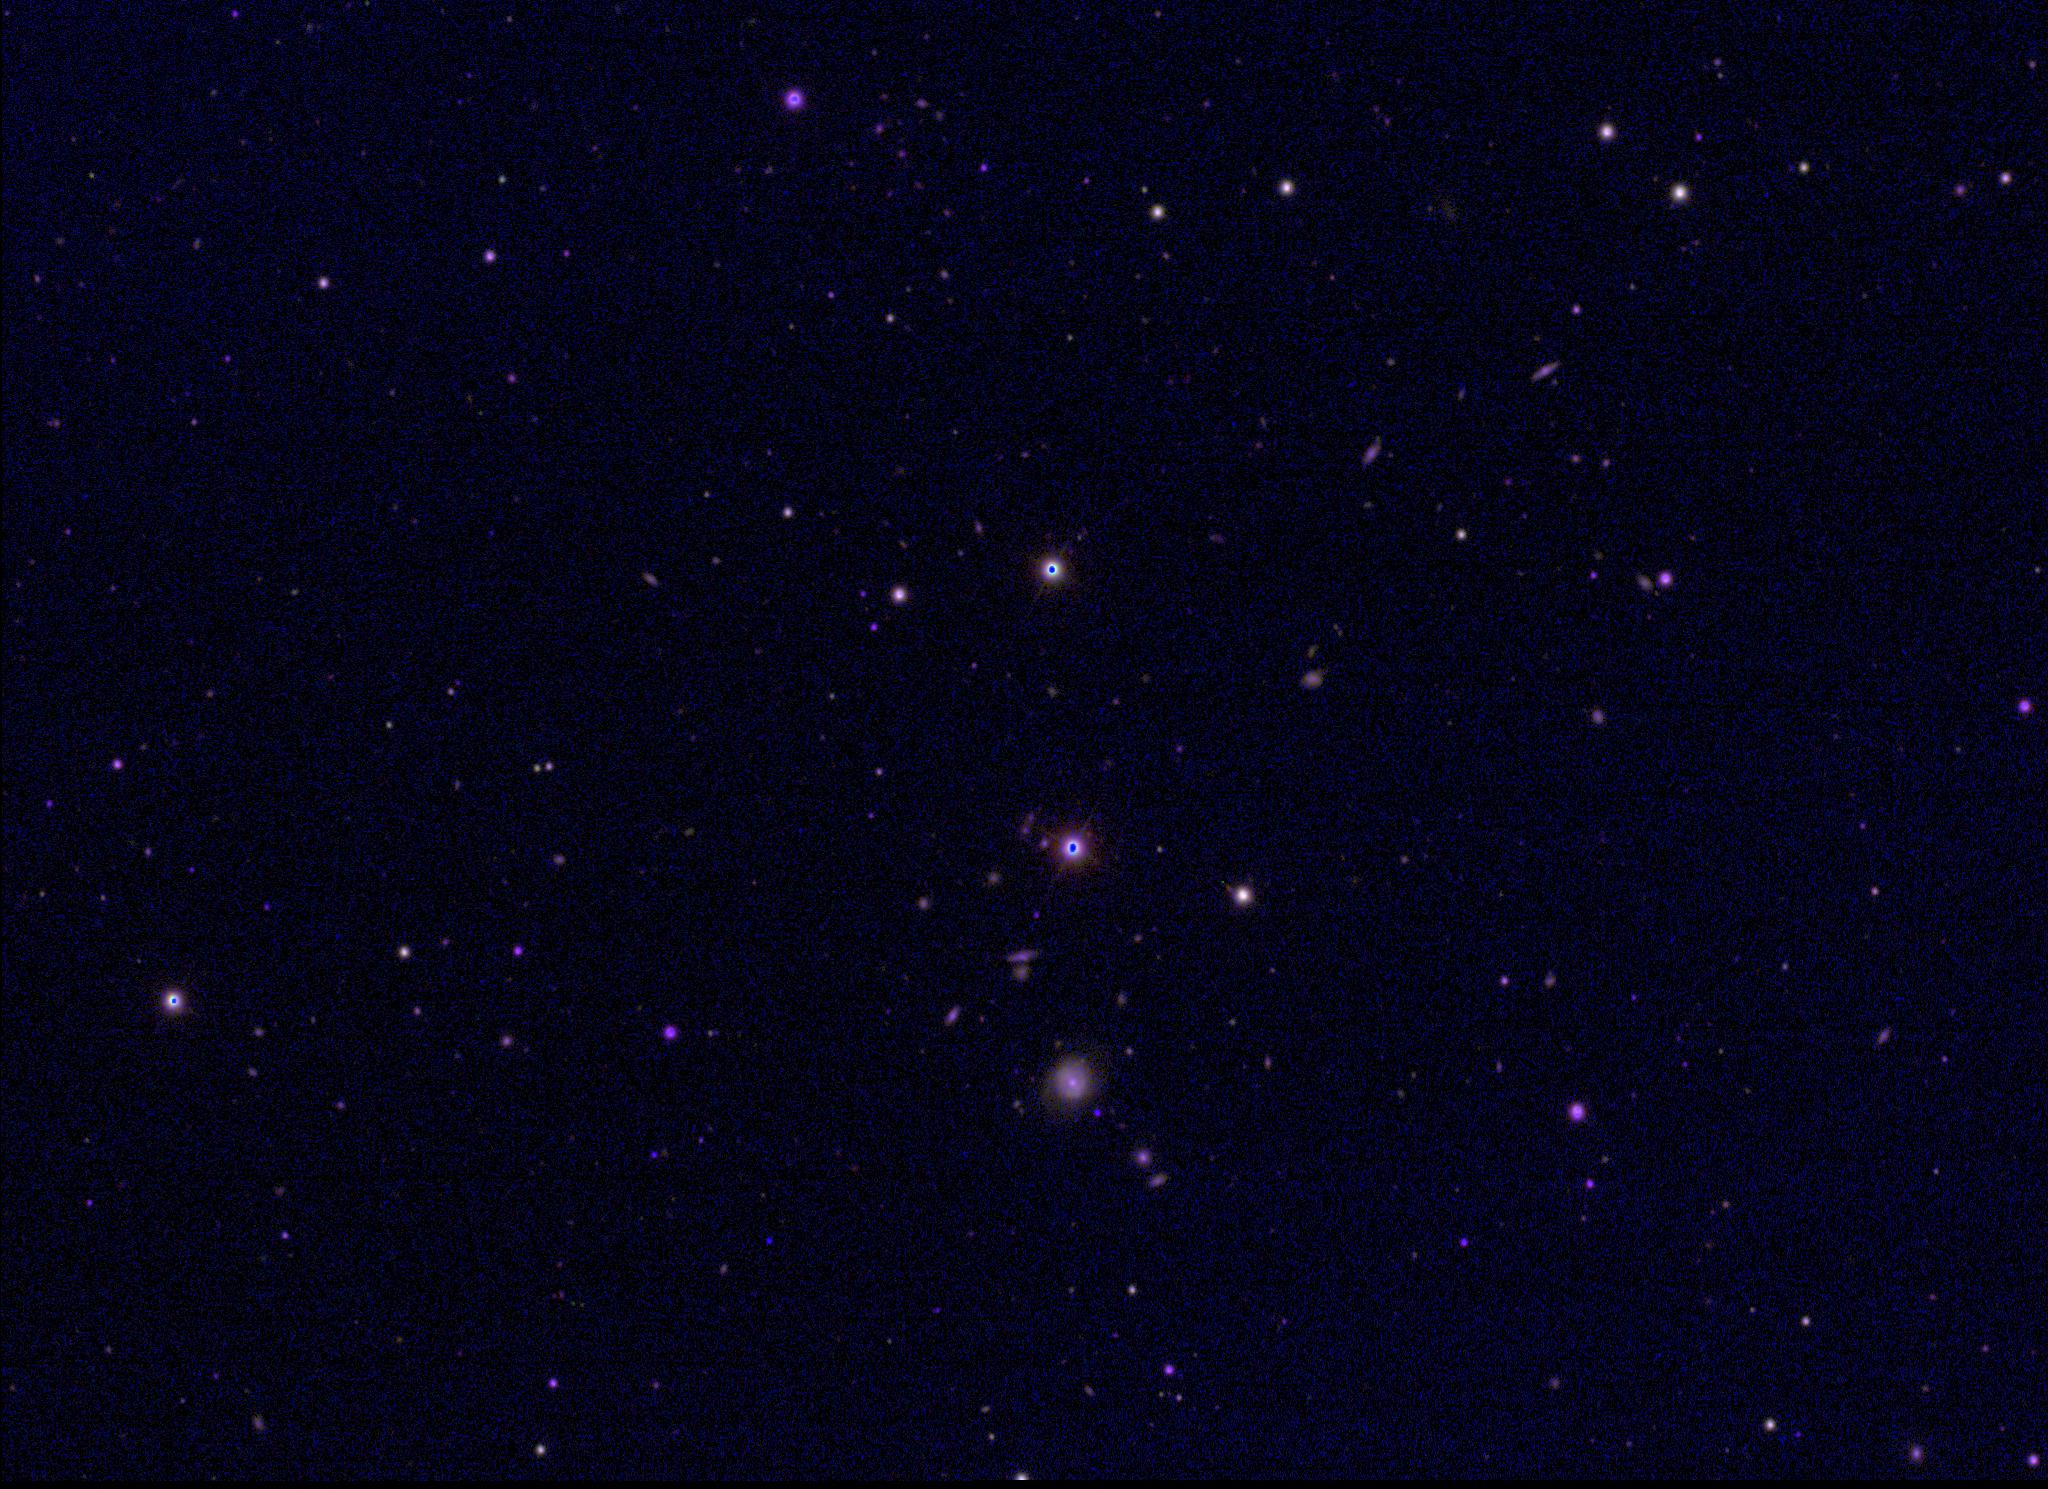L: (762, 1231, 776, 1246)
